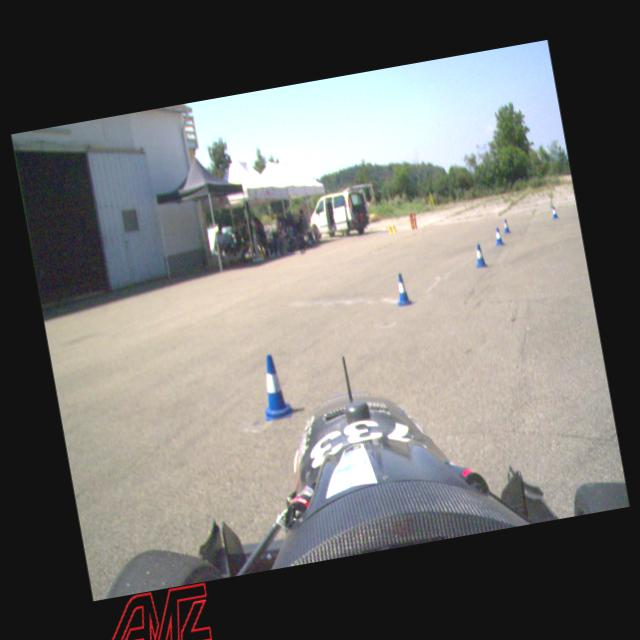blue_cone: (255, 351, 293, 421), (392, 270, 412, 306), (472, 242, 488, 268), (493, 226, 504, 246), (502, 217, 510, 233), (550, 204, 558, 218)
yellow_cone: (388, 224, 392, 233), (392, 223, 396, 232)
